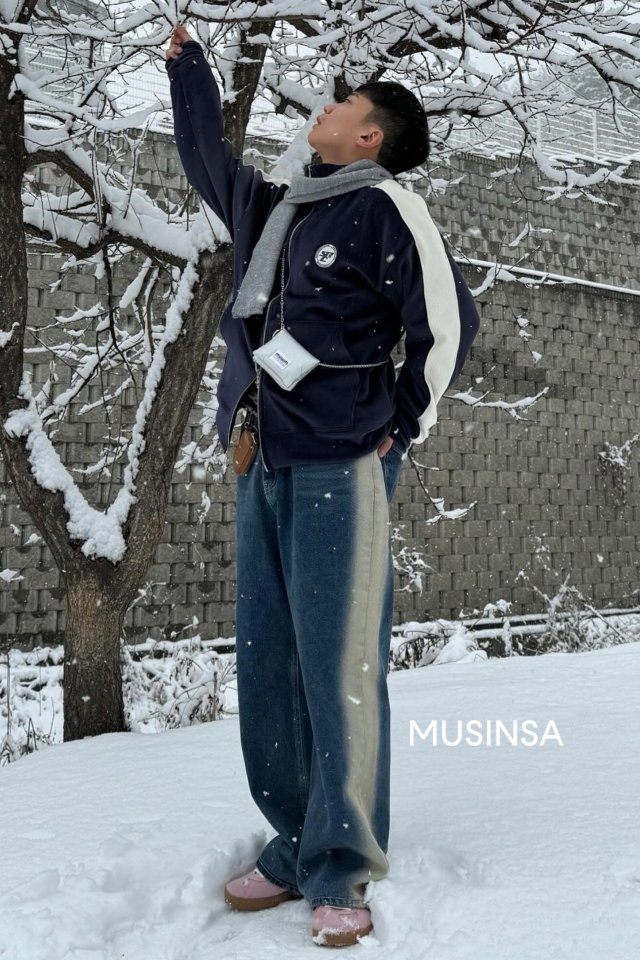Bag: (242, 322, 327, 398)
Jeans: (225, 425, 396, 903)
Muffler: (236, 155, 384, 322)
Outer: (179, 160, 472, 467)
Shoes: (214, 855, 379, 953)
